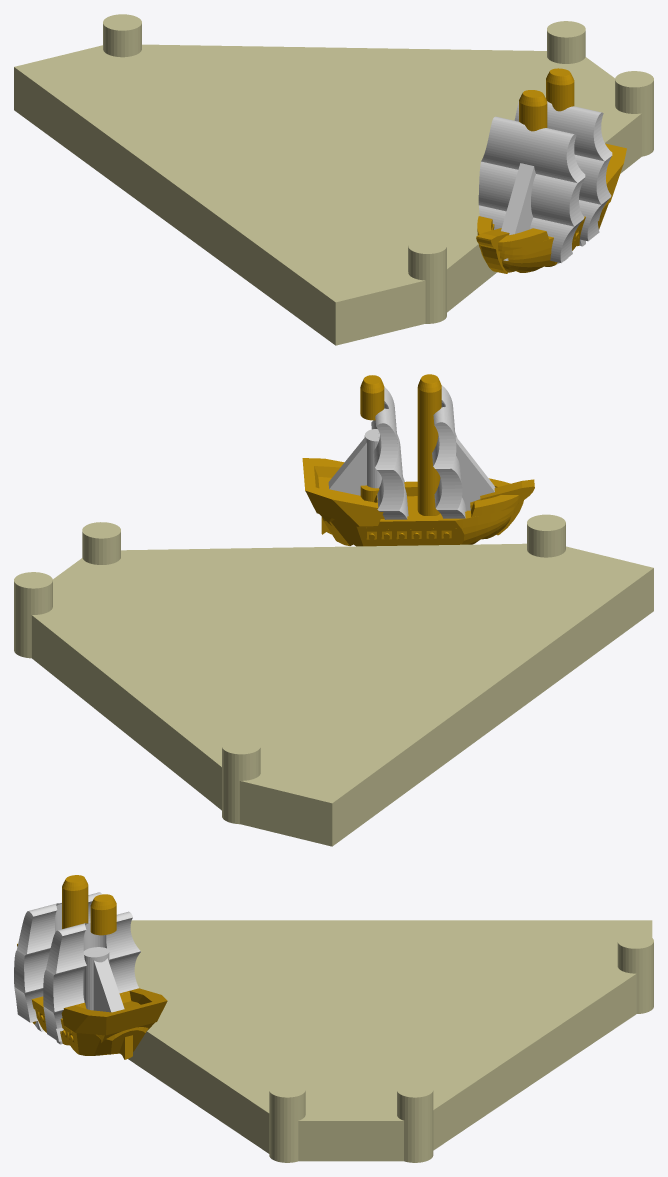
The model's file is harbor_base.glb.
3 renders of one model, top to bottom at view 1: azimuth 30°, elevation 25°; view 2: azimuth 150°, elevation 25°; view 3: azimuth 270°, elevation 25°, orthographic. The views are drawn at different scales.
Visible parts, largest first — view 1: part_1; view 2: part_1; view 3: part_1.
Boxes of the visible parts, x1,y1,x2,y2 form: part_1: (14,14,653,345); part_1: (14,374,653,846); part_1: (14,875,653,1162).
Size of the model in its own units: 26.21 by 10.8 by 35.09.
